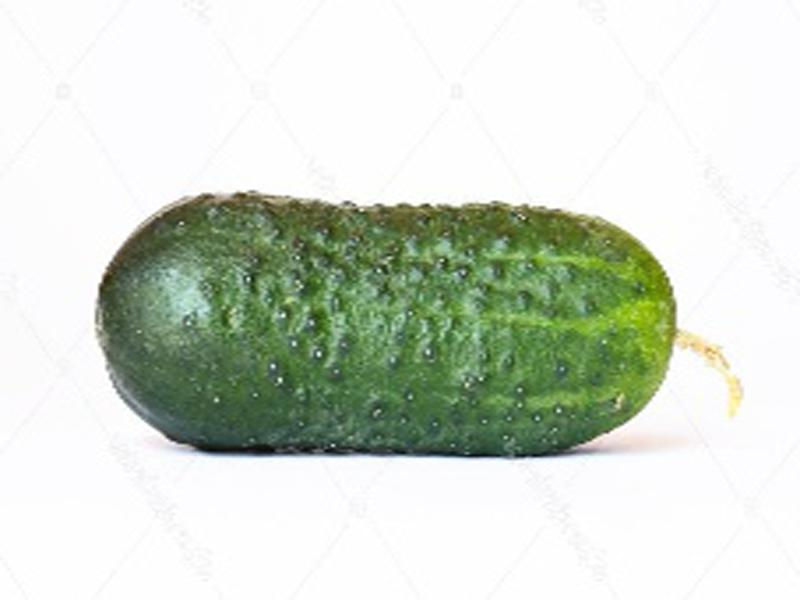Cucumber: (101, 196, 746, 452)
